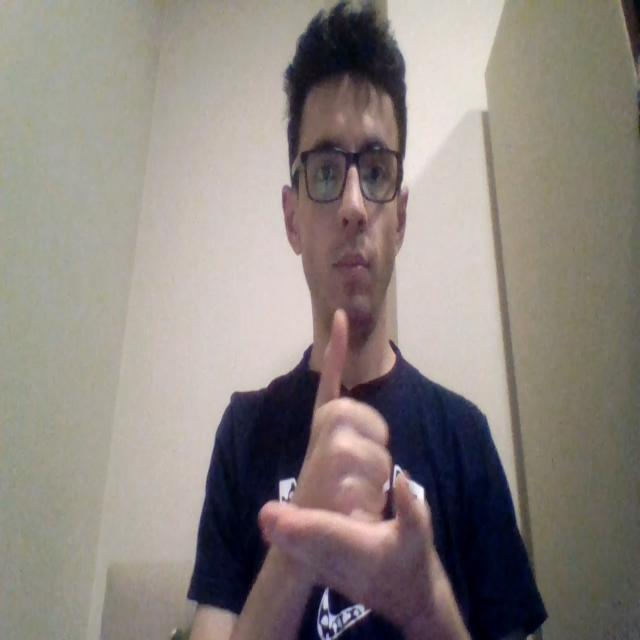help: (258, 308, 433, 614)
